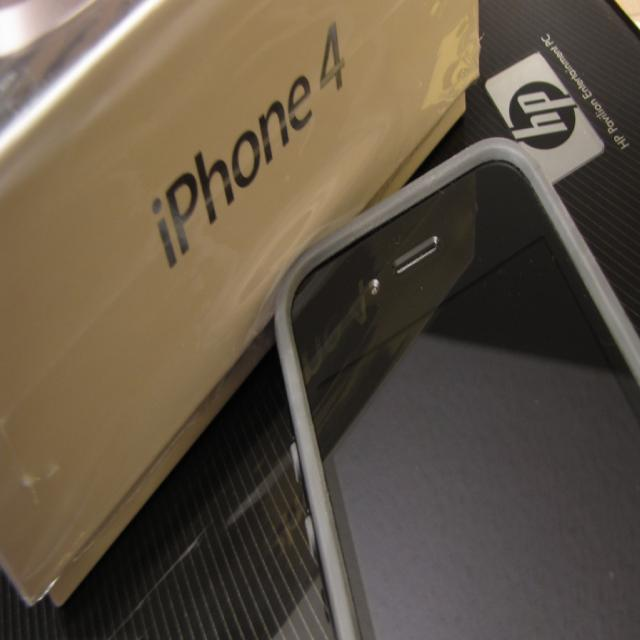HP: (484, 50, 609, 187)
